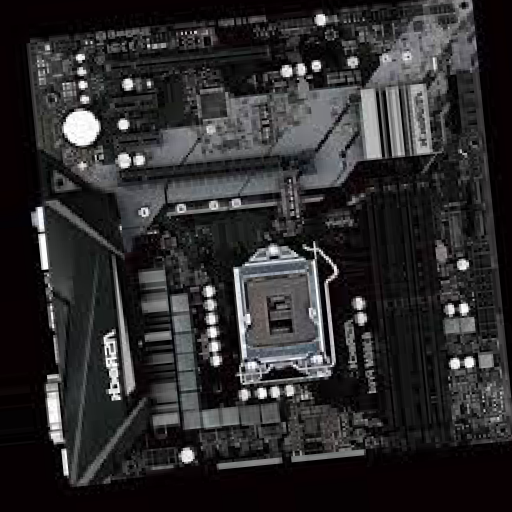CPU: (234, 242, 332, 385)
GPU: (116, 147, 320, 189), (102, 35, 304, 76)
MOTHERBOARD: (30, 2, 512, 486)
RAM: (363, 177, 456, 447)
SSD: (252, 104, 280, 149), (281, 175, 303, 228)
